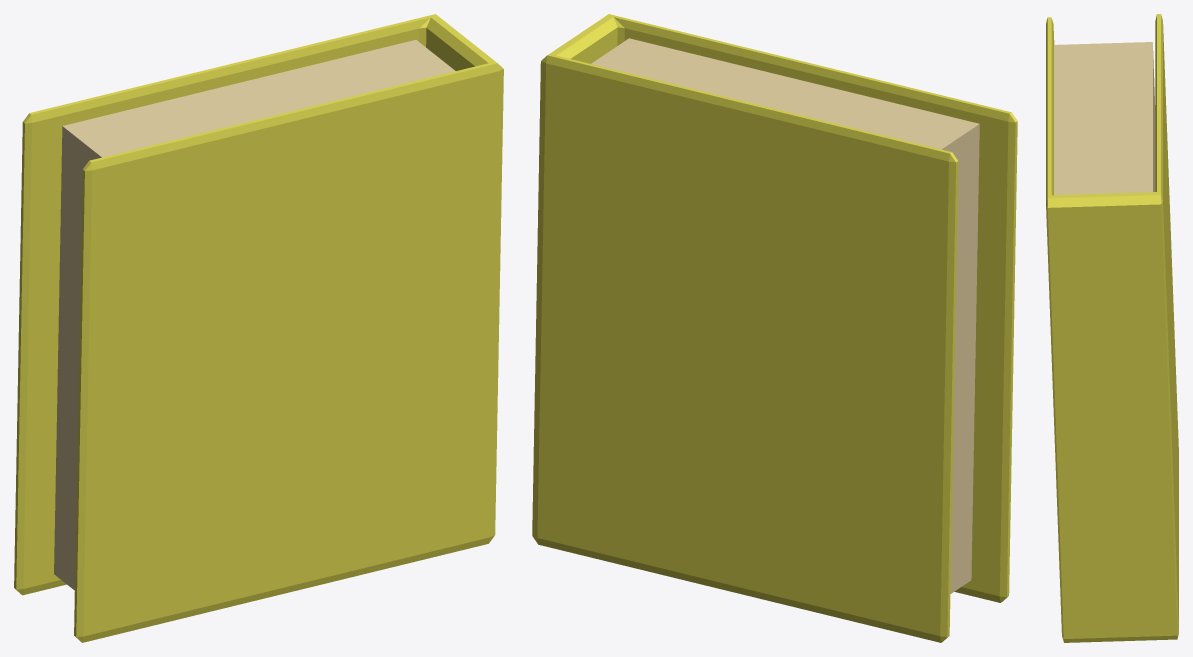
Rendered from Green_book.fbx.
3 views of the same model, side by side, from view 1: azimuth 30°, elevation 25°; view 2: azimuth 150°, elevation 25°; view 3: azimuth 270°, elevation 25° (orthographic). The views are drawn at different scales.
Parts seen in each view (by area): view 1: Book.009, Book.012; view 2: Book.009, Book.012; view 3: Book.009, Book.012.
Boxes of the visible parts, x1,y1,x2,y2 form: Book.009: (14,14,503,642); Book.012: (54,40,455,590); Book.009: (532,14,1017,642); Book.012: (591,38,979,593); Book.009: (1046,14,1178,642); Book.012: (1054,42,1155,195).
Bounding box in the file's own units: 0.4487 × 0.5023 × 0.1351.
